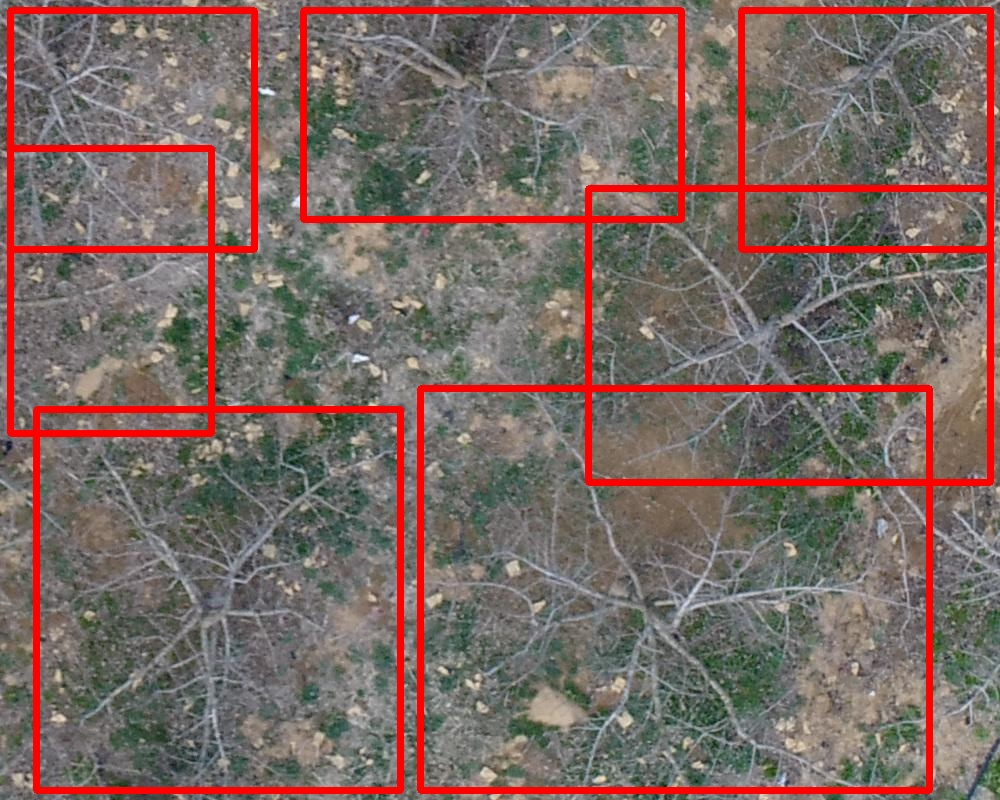apple: (420, 388, 929, 790), (36, 409, 400, 790), (588, 188, 990, 482), (303, 10, 681, 219), (741, 10, 990, 249), (10, 10, 254, 249), (10, 148, 211, 433)
